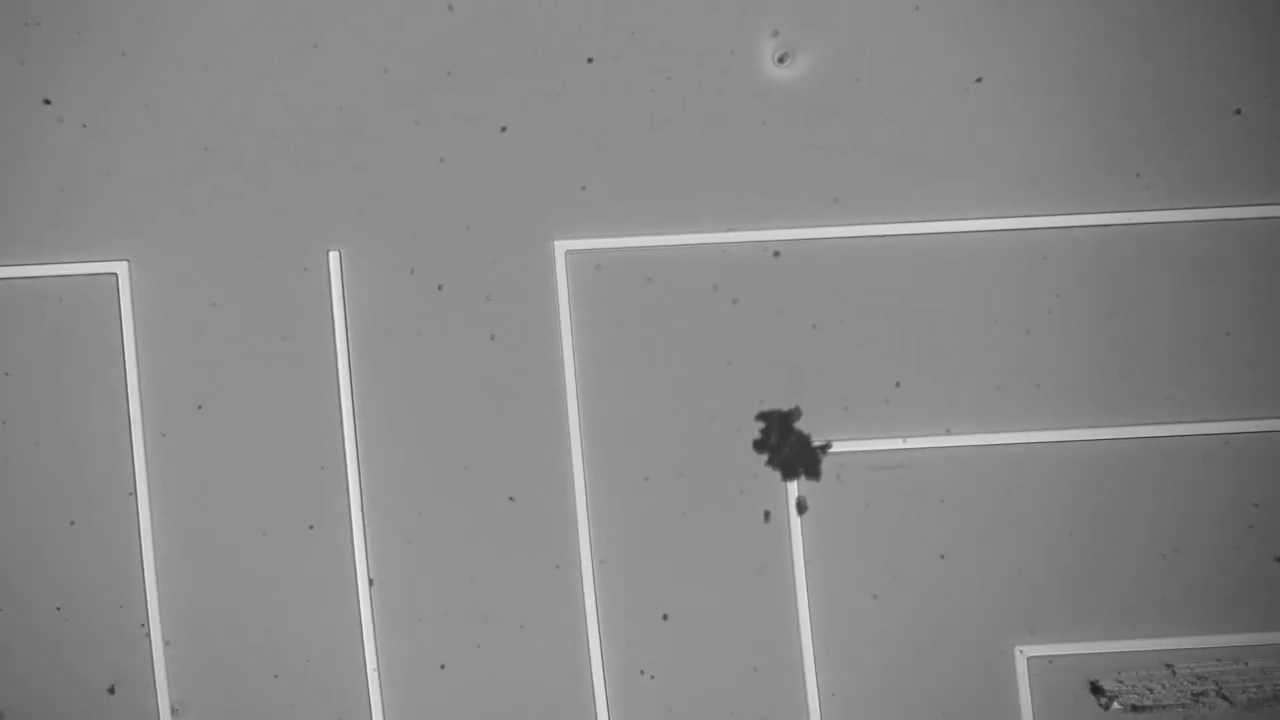scratch: (1079, 657, 1279, 719)
stains_enbedded: (738, 400, 852, 515)
